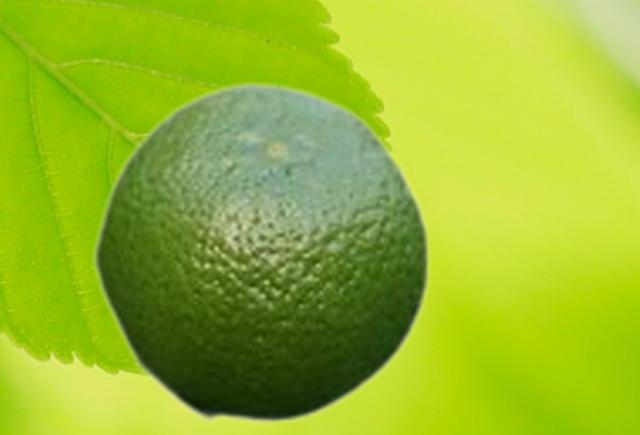calamansi: (90, 78, 432, 424)
